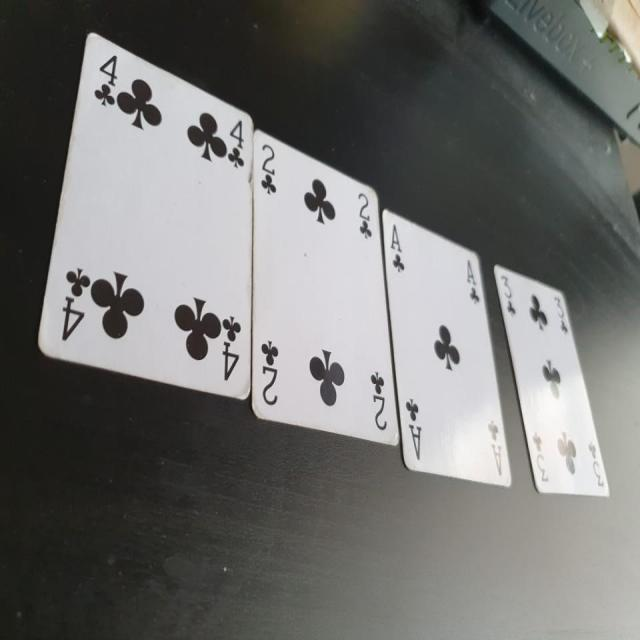2 Trefoils: (252, 129, 399, 446)
3 Trefoils: (492, 261, 611, 498)
4 Trefoils: (38, 31, 257, 400)
A Trefoils: (381, 206, 513, 484)
